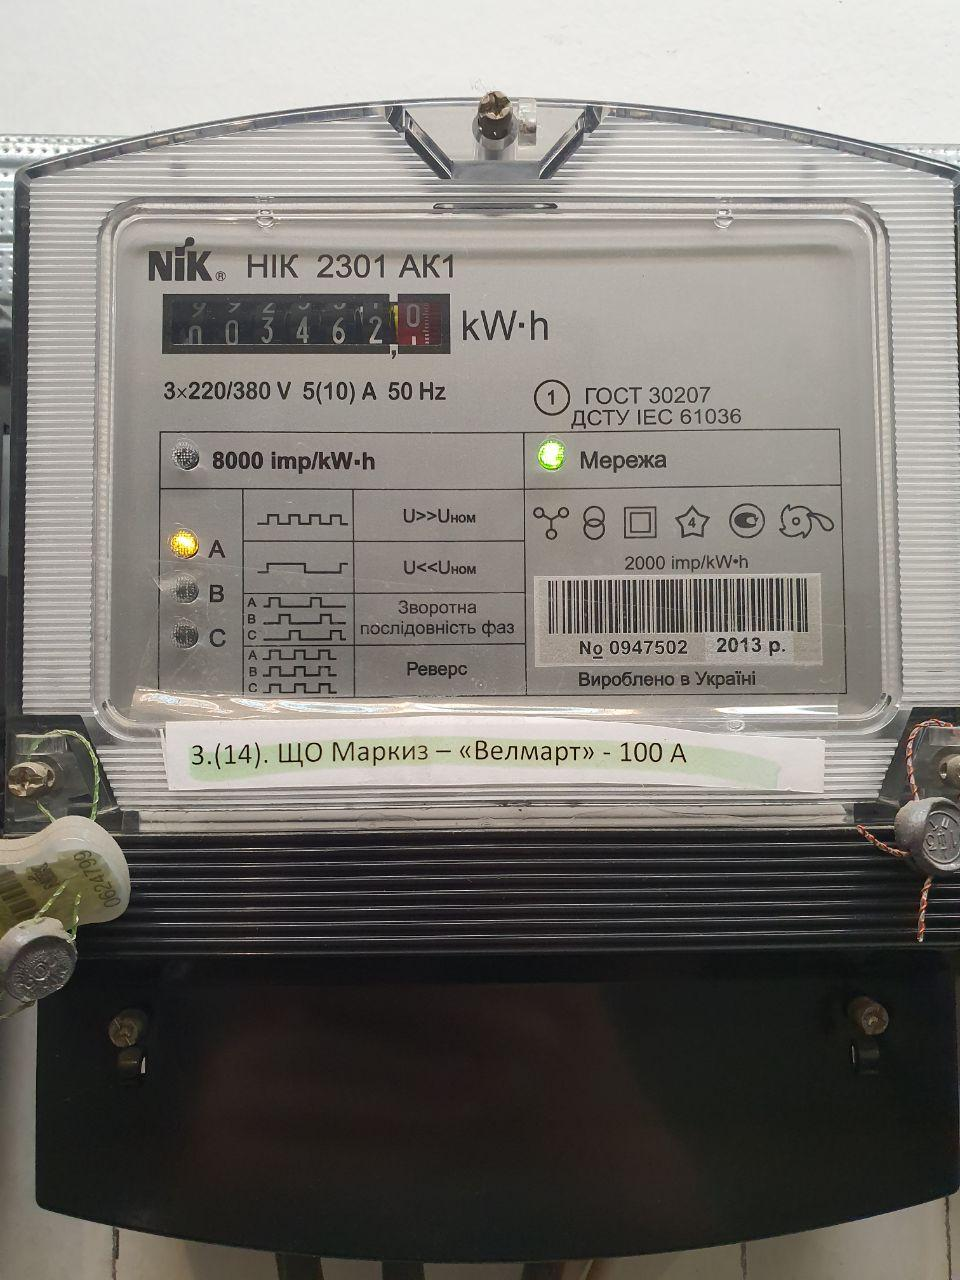0: (223, 317, 241, 346), (185, 323, 204, 346), (405, 302, 422, 330)
2: (367, 314, 385, 346)
3: (258, 315, 276, 347)
4: (295, 314, 312, 346)
6: (329, 314, 349, 348)
9: (188, 301, 208, 321)
screen: (150, 282, 462, 373)
